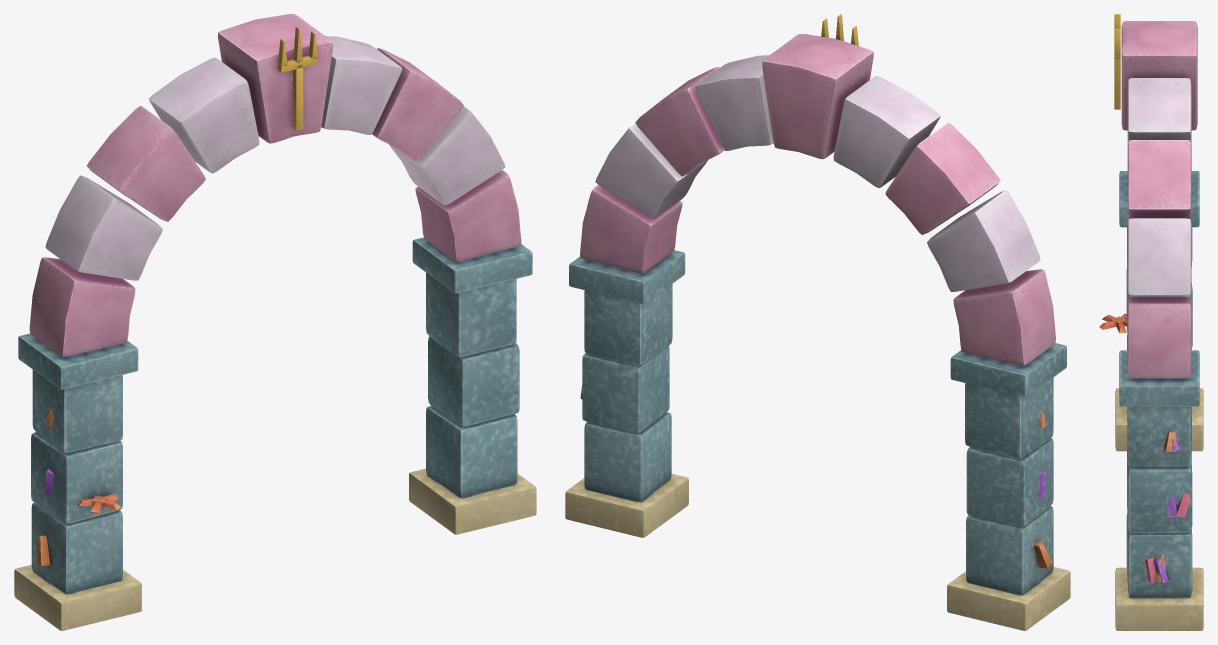
Rendered from Abysses_PorteAtlante.fbx.
The picture shows the model from 3 angles, left to right: view 1: azimuth 30°, elevation 25°; view 2: azimuth 150°, elevation 25°; view 3: azimuth 270°, elevation 25°; orthographic projection. The views are drawn at different scales.
Parts seen in each view (by area): view 1: Abysses_PorteAtlante; view 2: Abysses_PorteAtlante; view 3: Abysses_PorteAtlante.
Part boxes in pixels (x1,y1,x2,y2): Abysses_PorteAtlante: (14,14,536,630); Abysses_PorteAtlante: (565,14,1070,630); Abysses_PorteAtlante: (1099,14,1203,630).
Size of the model in its own units: 2561 by 2802 by 521.
1 material, 1 textured.
